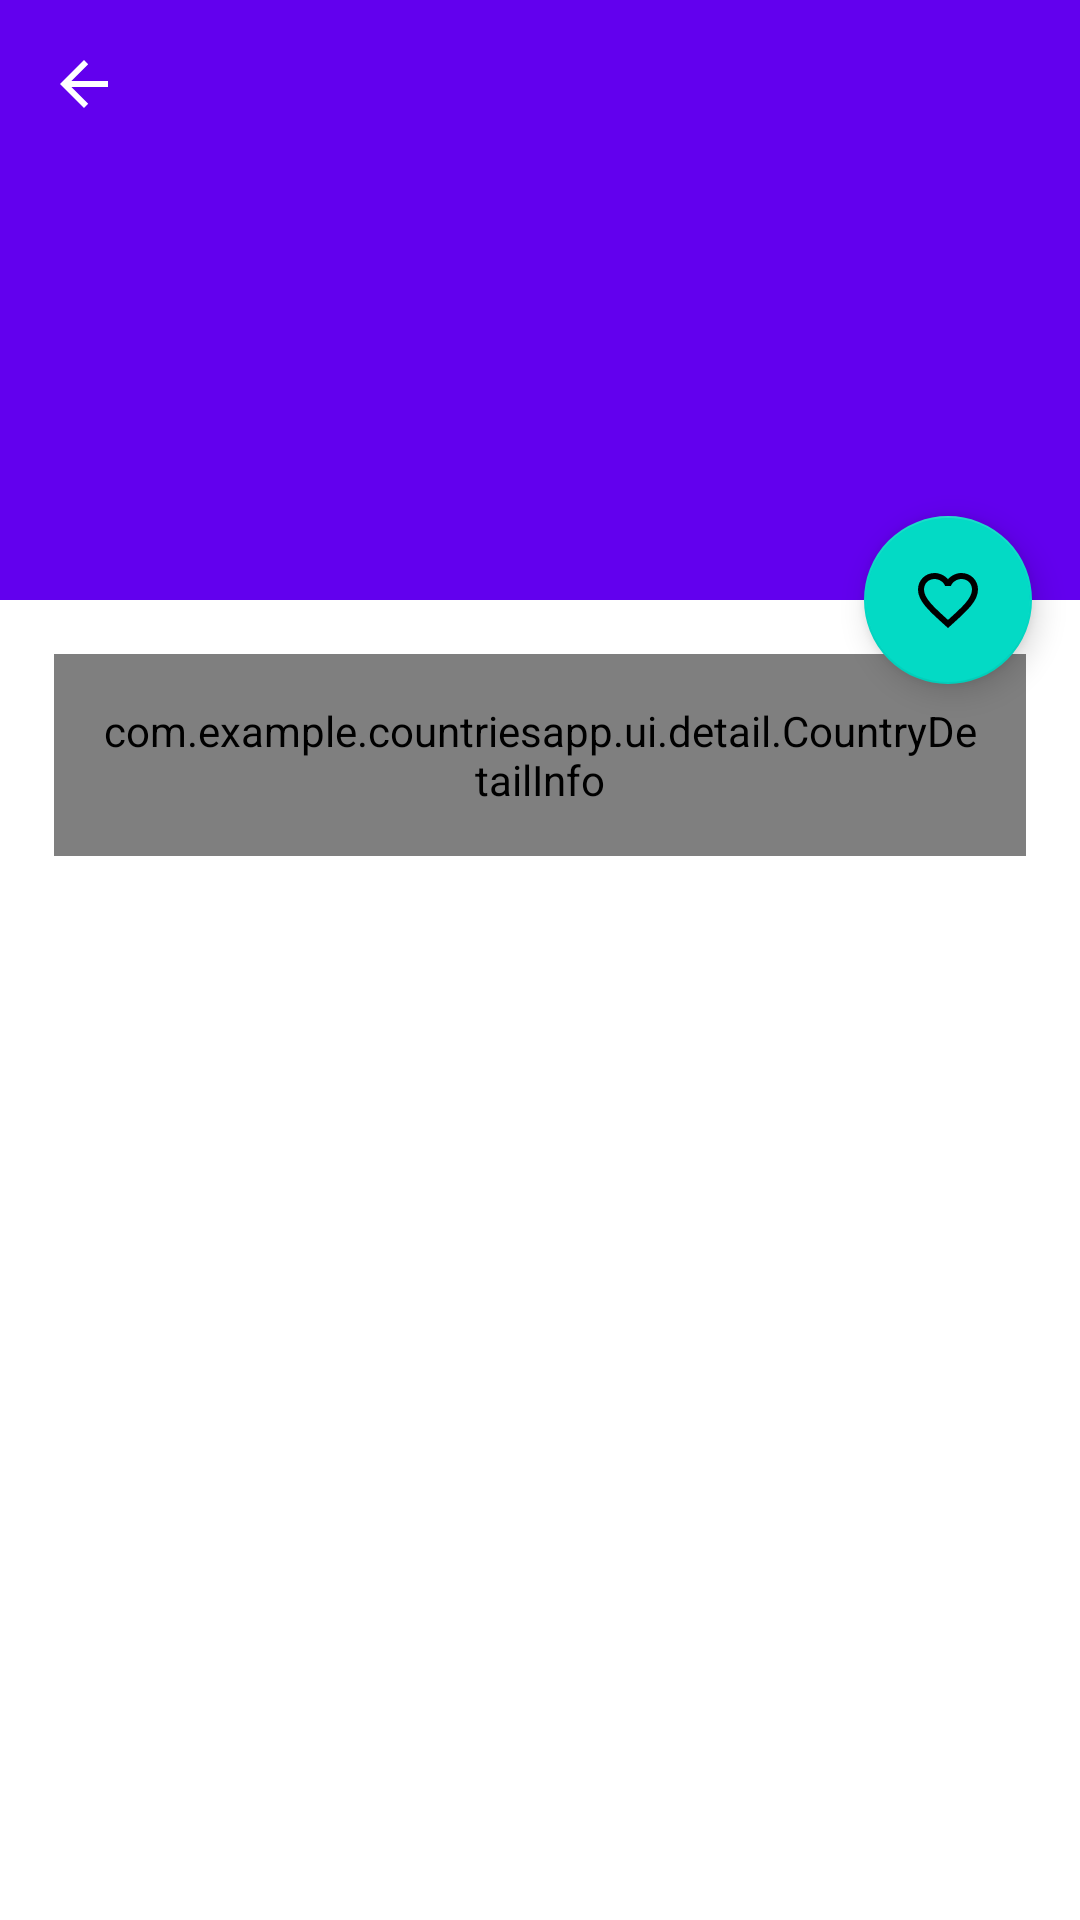

Point at icon controls on the screen. Image size 1080*1920, points as (x=x, y=y).
me gusta: (x=948, y=600)
